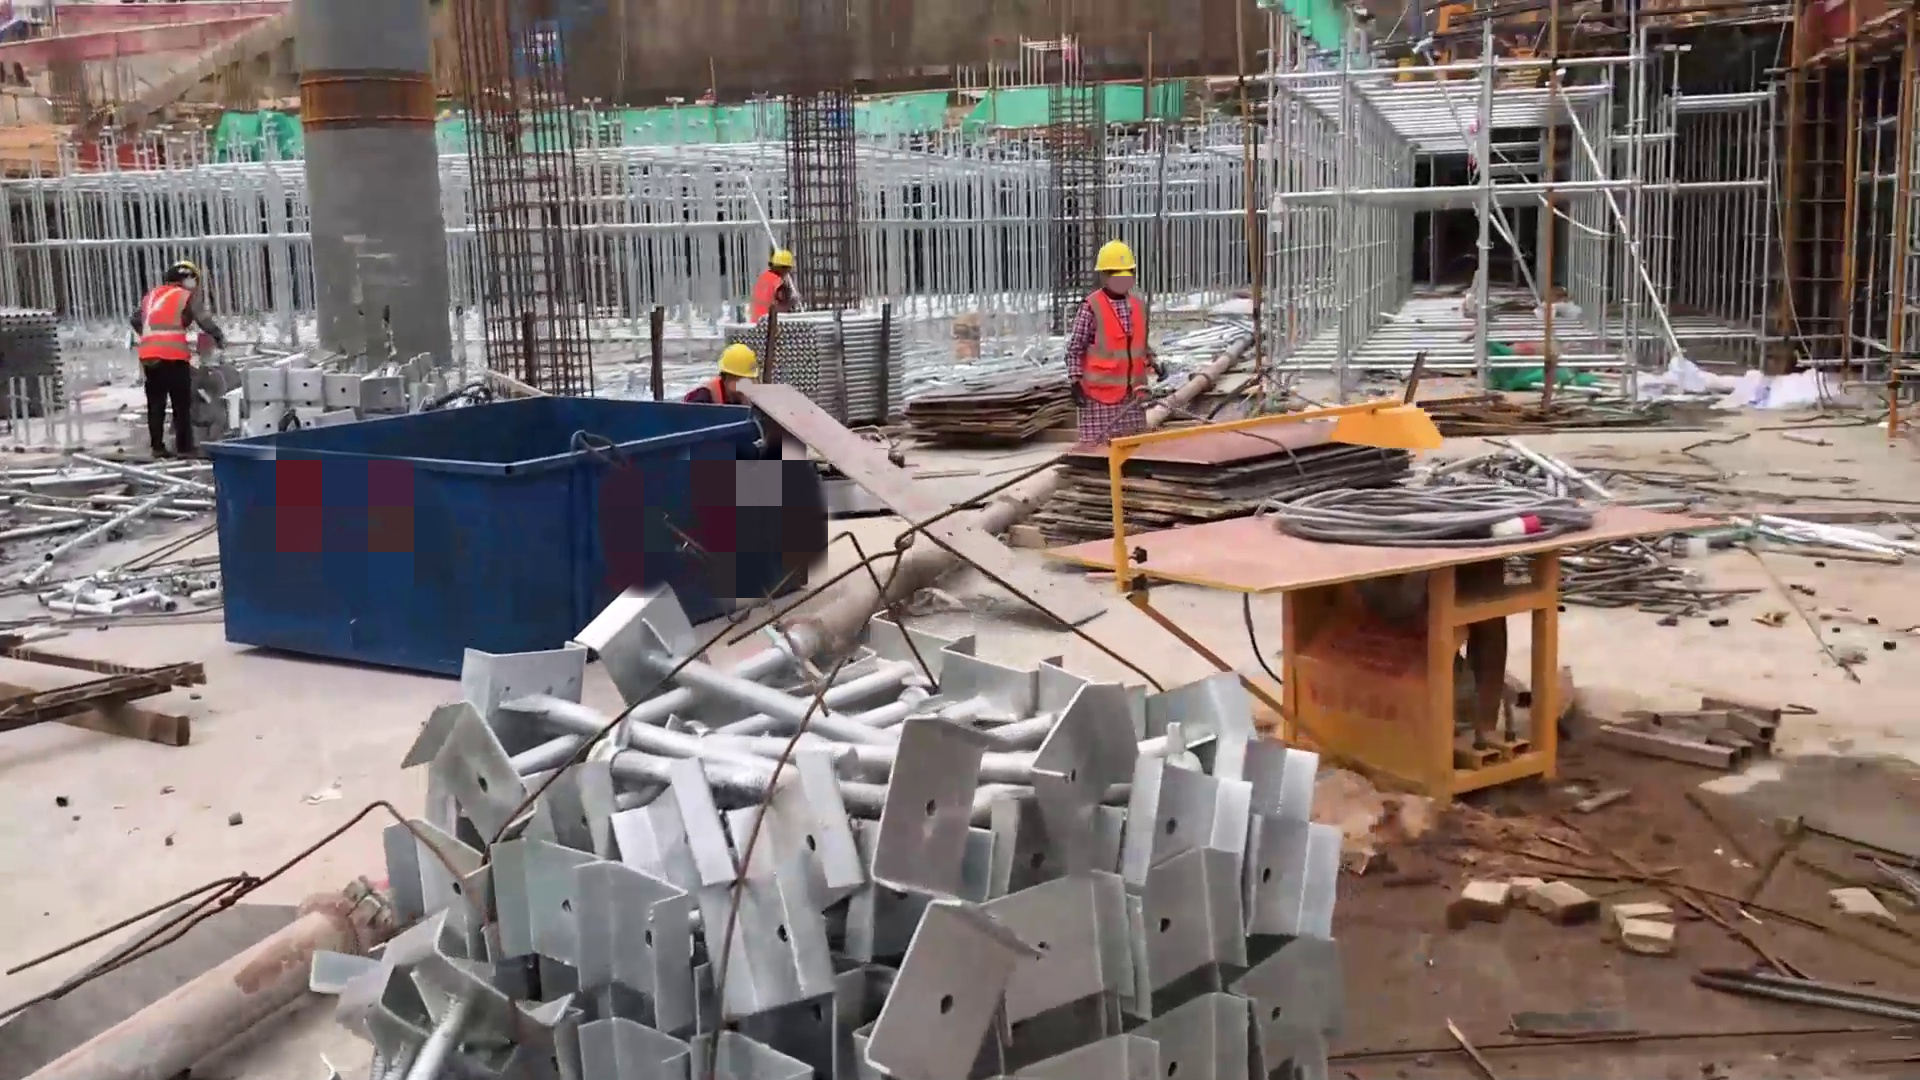board: (1035, 420, 1440, 523), (890, 374, 1075, 440)
cutter: (1085, 397, 1591, 787)
fence: (2, 18, 293, 79)
helmet: (1092, 239, 1142, 276), (715, 340, 765, 376), (762, 246, 794, 268)
hopper: (174, 390, 826, 665)
person: (1065, 236, 1164, 454), (122, 246, 209, 456), (687, 336, 771, 423), (743, 247, 810, 318)
scaffold: (745, 309, 917, 430), (9, 303, 69, 421)
vest: (1082, 286, 1155, 404), (137, 281, 195, 371), (748, 271, 801, 314), (680, 380, 739, 404)
